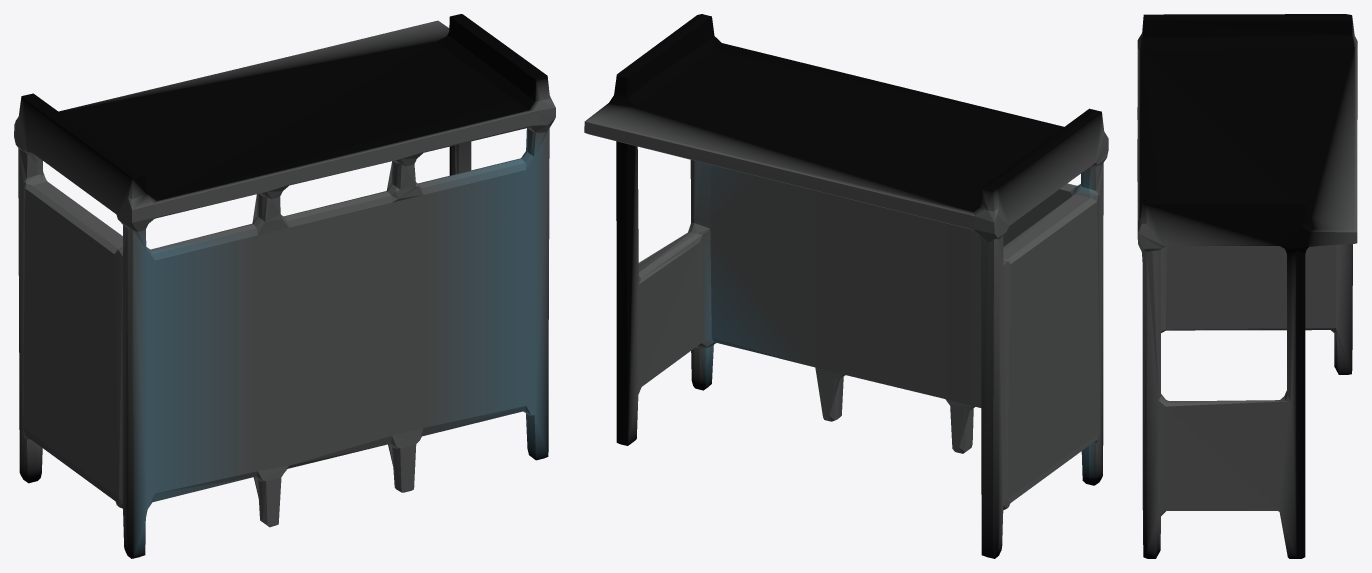
File: Bus Stops.glb
3 views of the same model, side by side, from view 1: azimuth 30°, elevation 25°; view 2: azimuth 150°, elevation 25°; view 3: azimuth 270°, elevation 25° (orthographic). The views are drawn at different scales.
Parts seen in each view (by area): view 1: Root; view 2: Root; view 3: Root.
Boxes of the visible parts, x1,y1,x2,y2 form: Root: (14,14,555,558); Root: (584,14,1108,558); Root: (1137,14,1357,558).
Bounding box in the file's own units: 2.38 × 2.05 × 1.14.
